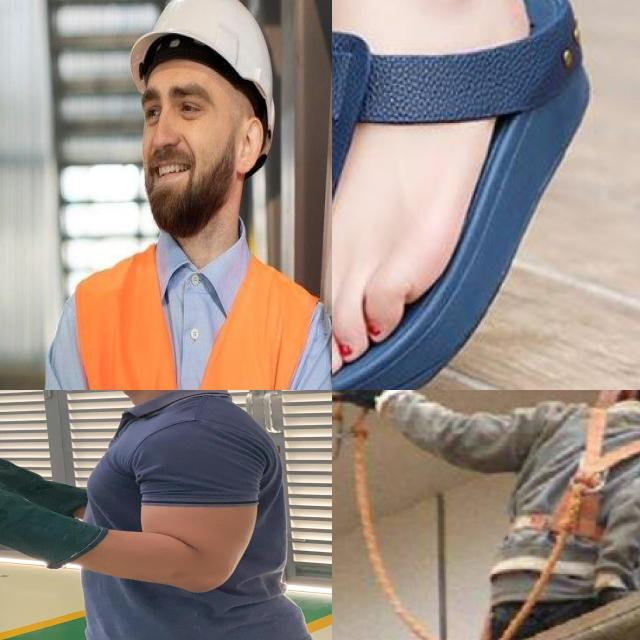Harness: (522, 404, 640, 548)
No_Ear-Protection: (226, 106, 271, 188)
No_Glasses: (134, 83, 213, 134)
Sandals: (332, 0, 607, 390)
hand_glove: (0, 440, 54, 496)
person: (0, 390, 332, 640)
